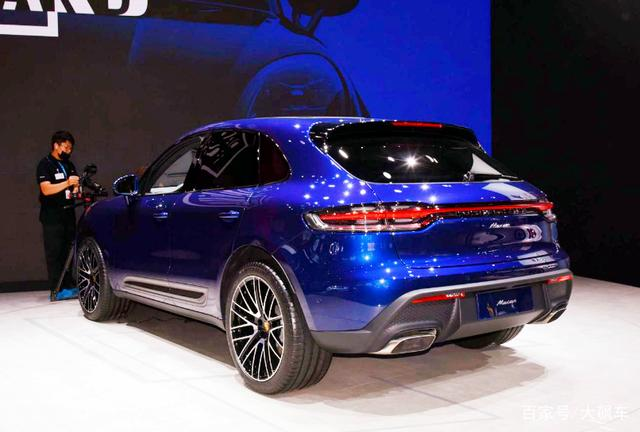blue: (73, 115, 572, 391)
